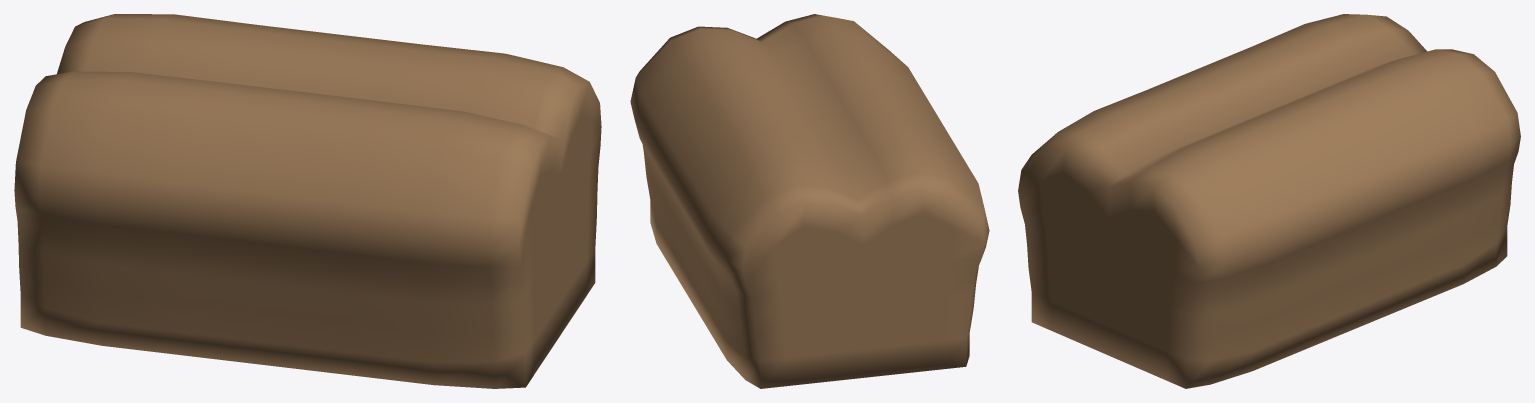
The model's file is bread.fbx.
3 renders of one model, left to right at view 1: azimuth 30°, elevation 25°; view 2: azimuth 150°, elevation 25°; view 3: azimuth 270°, elevation 25°, orthographic. The views are drawn at different scales.
Visible parts, largest first — view 1: pCube12; view 2: pCube12; view 3: pCube12.
Part boxes in pixels (bbox=[...]): pCube12: bbox=[14, 14, 601, 388]; pCube12: bbox=[630, 14, 989, 388]; pCube12: bbox=[1018, 14, 1520, 388].
Bounding box in the file's own units: 81.23 × 36.09 × 81.74.
